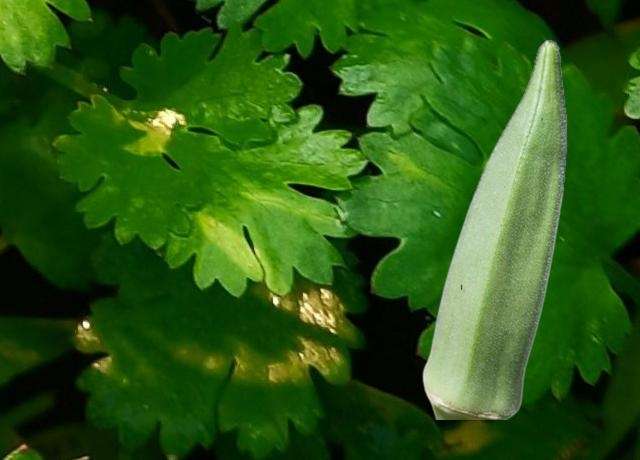okra: (422, 39, 566, 418)
